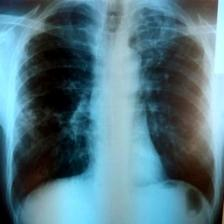tuberculosis: (8, 0, 220, 224)
